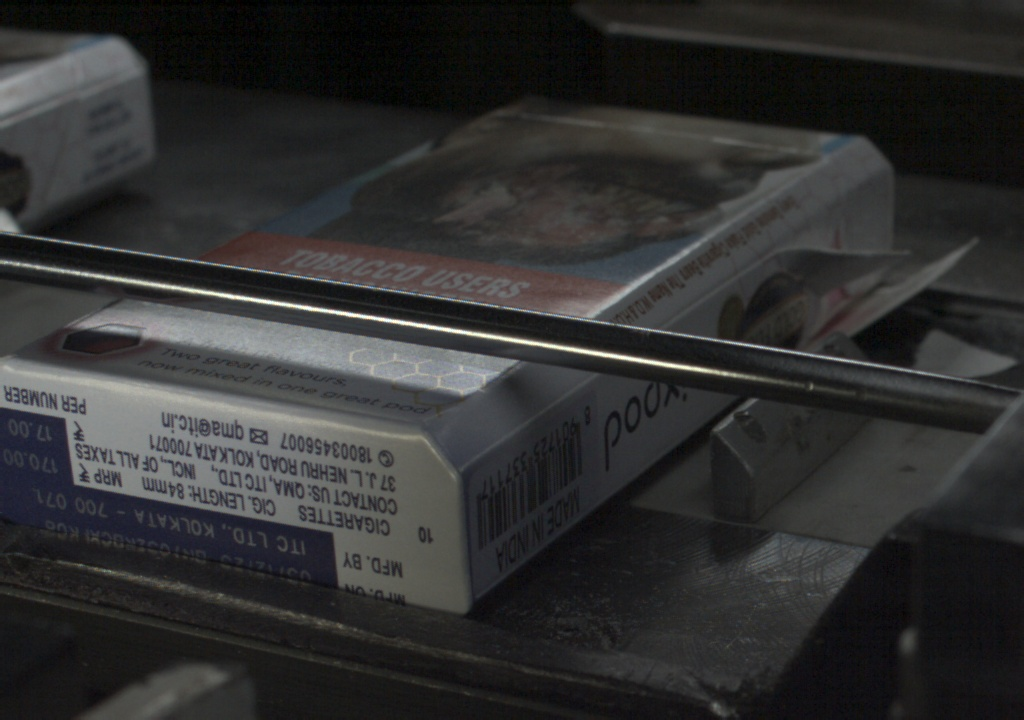g_bottom: (1, 356, 470, 613)
g_label: (1, 481, 335, 587)
g_lmiter: (681, 263, 758, 317), (459, 421, 524, 474), (524, 373, 587, 421)
ng_lmiter: (778, 216, 853, 282)
ng_miter: (849, 180, 897, 242)
price: (1, 412, 71, 479)
